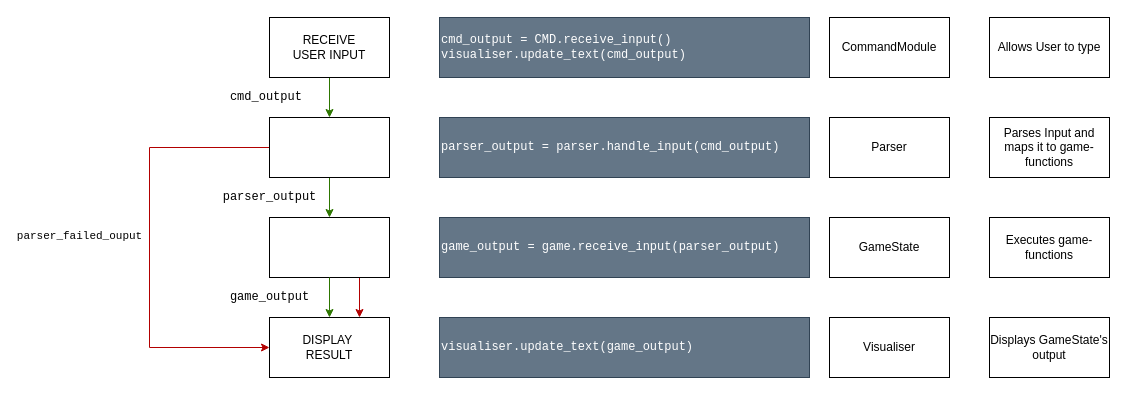
The diagram is 1127 pixels wide and 395 high, and some of its shapes have lost their labels. Each missing label, with the centre of its shape:
"HANDLE USER INPUT" belongs at pixel 329 247.
"PARSE USER INPUT" belongs at pixel 329 147.
